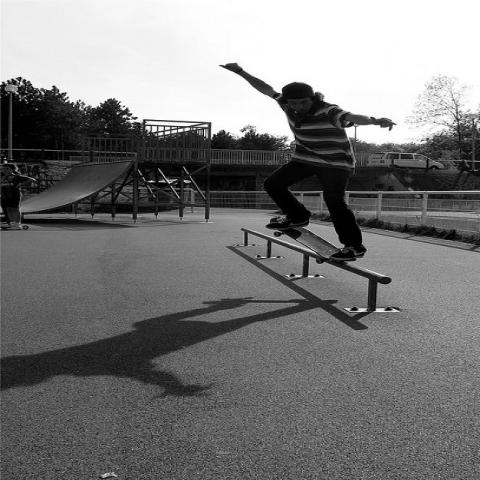car: (364, 152, 444, 169)
